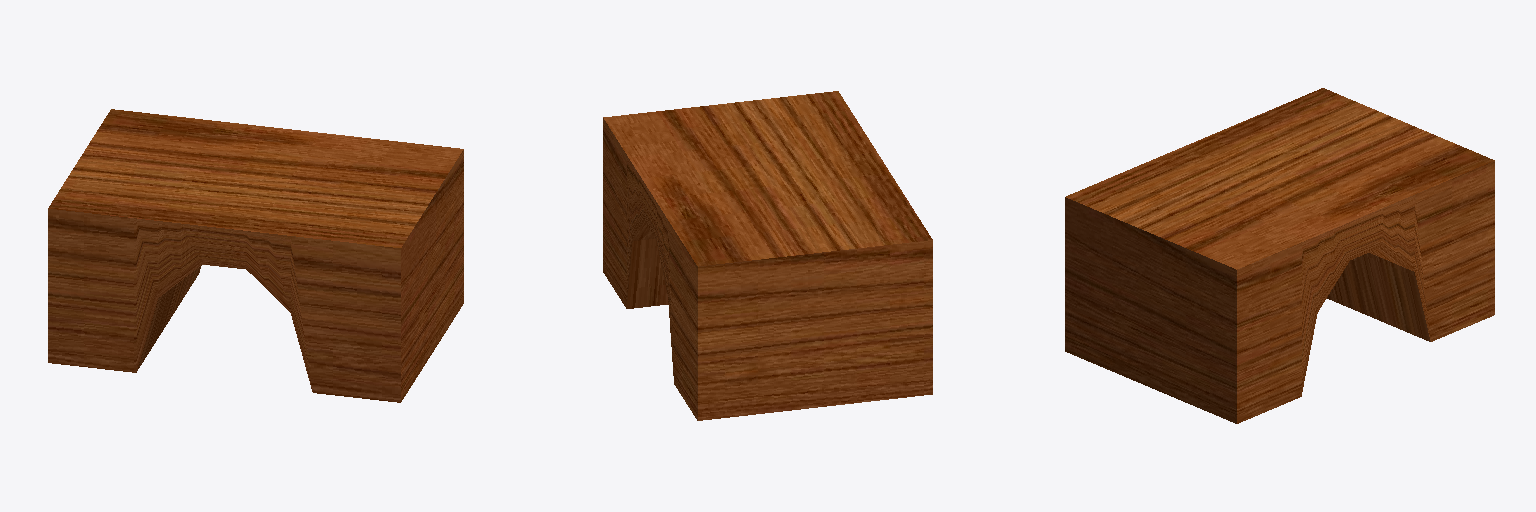
The picture shows the model from 3 angles: view 1: azimuth 30°, elevation 25°; view 2: azimuth 150°, elevation 25°; view 3: azimuth 270°, elevation 25°; orthographic projection.
Visible parts, largest first — view 1: 立方體.002; view 2: 立方體.002; view 3: 立方體.002.
Part boxes in pixels (bbox=[...]): 立方體.002: bbox=[48, 109, 463, 402]; 立方體.002: bbox=[603, 91, 932, 420]; 立方體.002: bbox=[1065, 88, 1494, 423].
Size of the model in its own units: 177 by 70 by 177.
Materials: 1 (1 with a texture image).